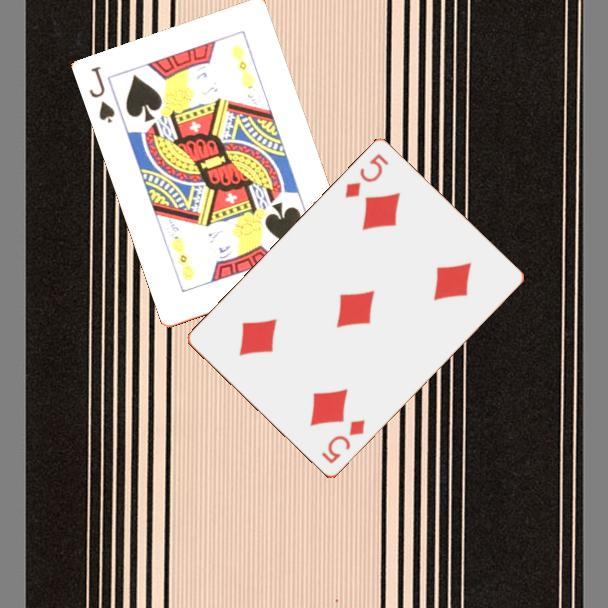d05: (341, 150, 392, 202), (318, 416, 368, 467)
s11: (86, 63, 118, 126)
